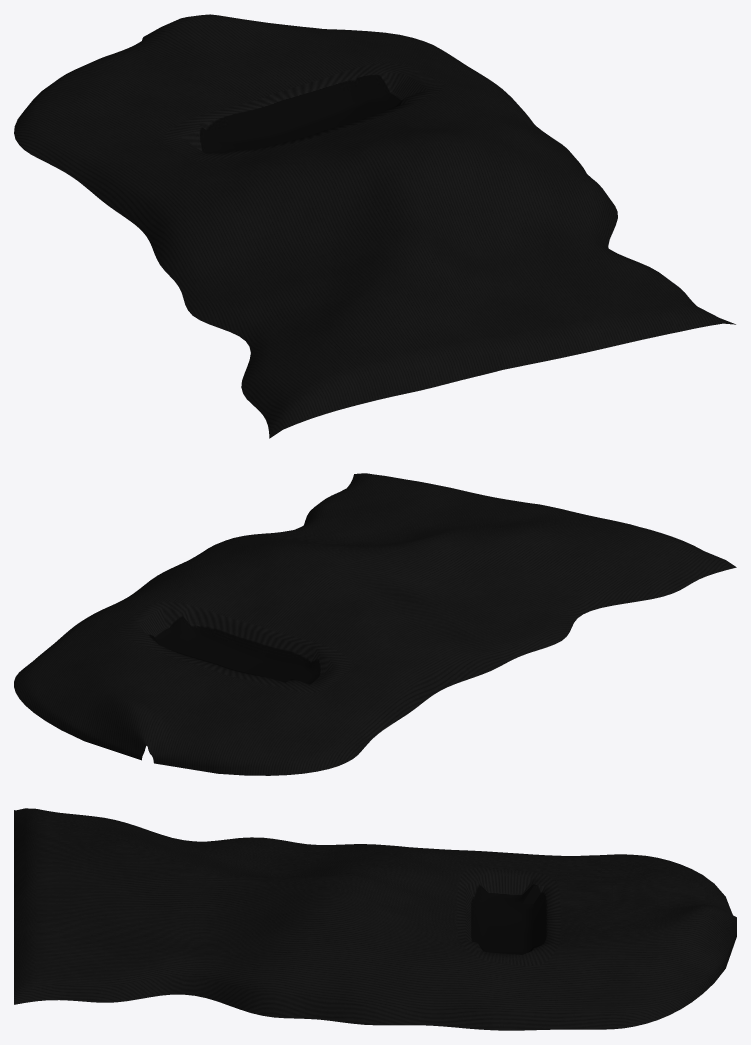
File: Balaclava.obj
3 views of the same model, one above another, from view 1: azimuth 30°, elevation 25°; view 2: azimuth 150°, elevation 25°; view 3: azimuth 270°, elevation 25° (orthographic). The views are drawn at different scales.
Visible parts, largest first — view 1: Knit; view 2: Knit; view 3: Knit.
Part boxes in pixels (x1,y1,x2,y2): Knit: [14, 14, 735, 438]; Knit: [14, 473, 736, 775]; Knit: [14, 808, 736, 1030].
Size of the model in its own units: 0.2888 by 0.0417 by 0.4.
Materials: 1 (1 with a texture image).
